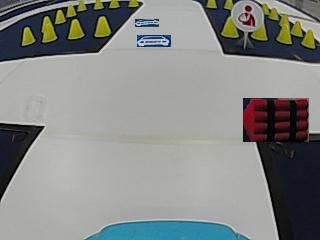cone: (277, 17, 292, 44), (42, 17, 57, 41), (94, 16, 111, 37), (68, 19, 85, 39), (222, 17, 239, 37), (252, 22, 267, 41), (21, 26, 35, 45), (302, 29, 316, 48), (55, 10, 66, 23), (93, 0, 104, 10), (66, 5, 76, 16), (126, 0, 139, 8), (109, 0, 120, 9), (206, 0, 217, 9), (77, 0, 86, 11), (223, 0, 233, 9)
patient: (234, 1, 263, 28)
